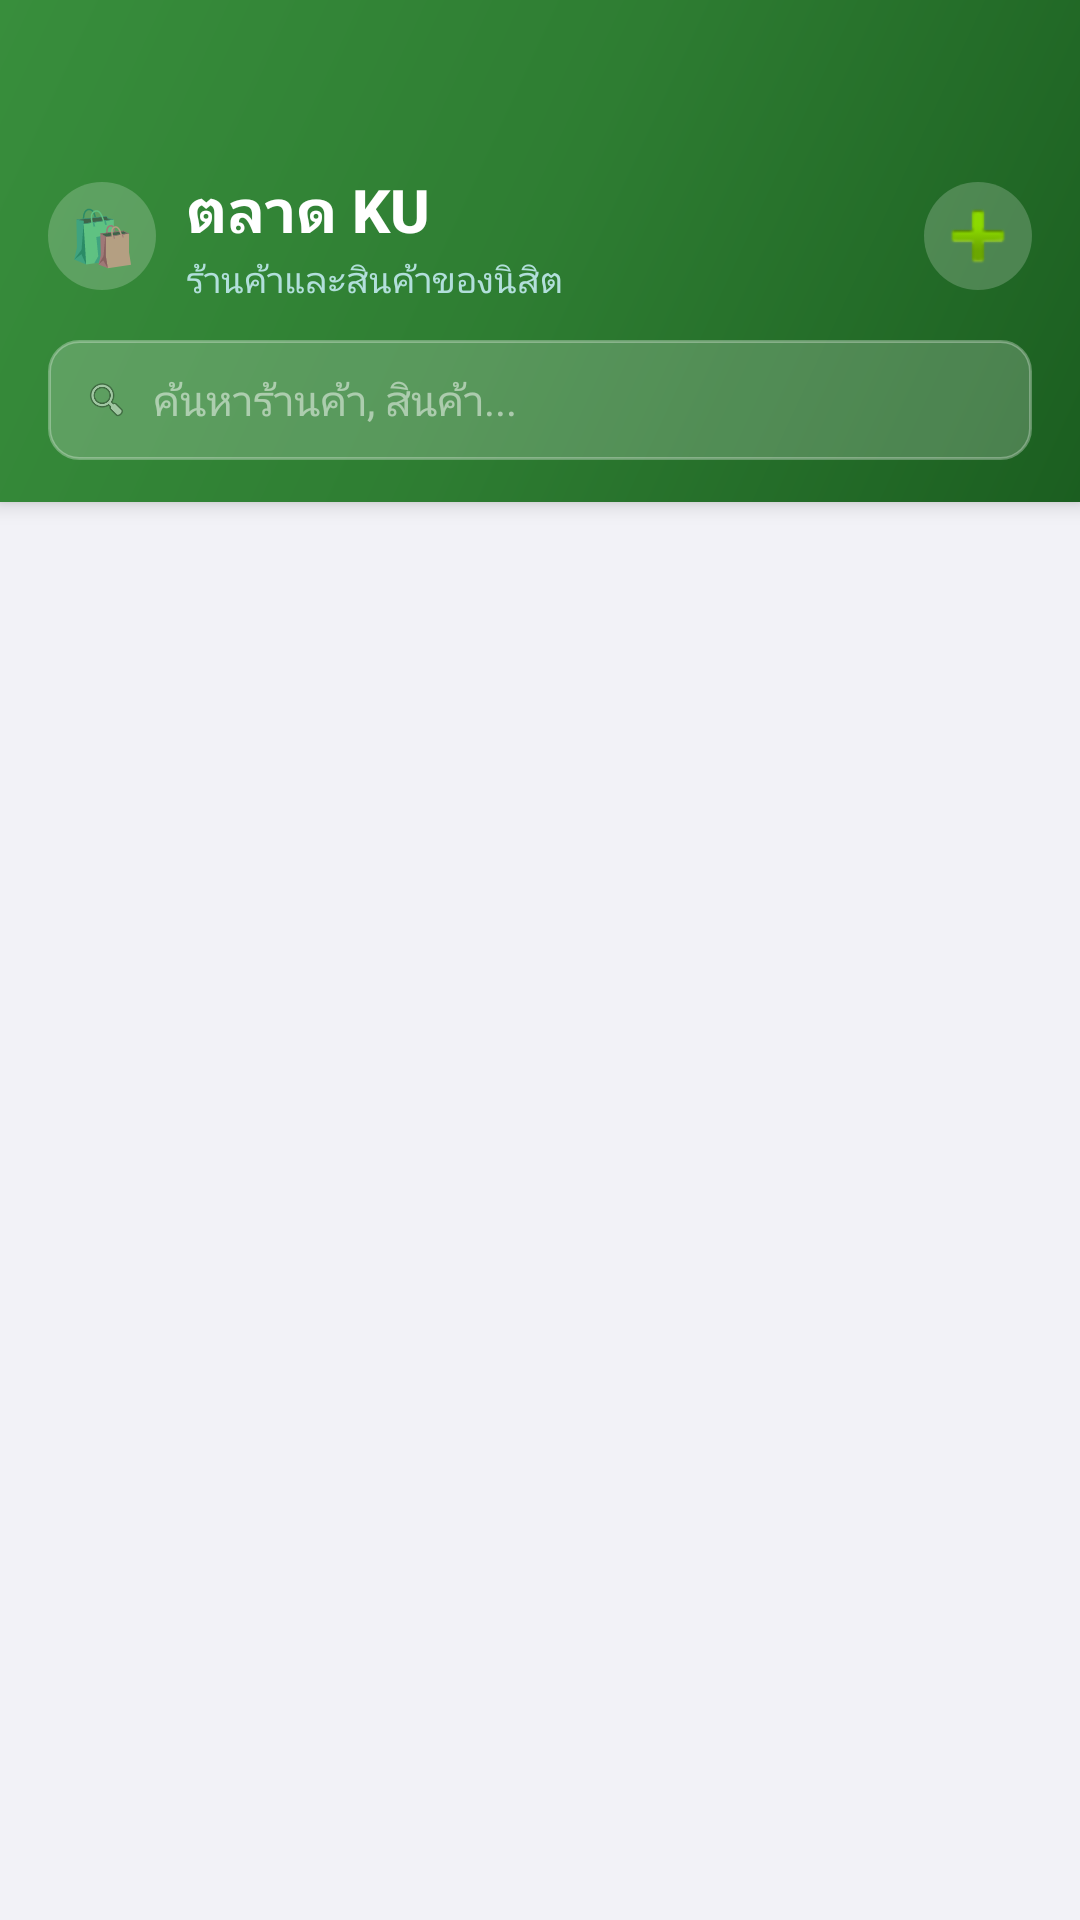

Where icons sit on this 1080 × 1920 app screen, as [left=x1, top=y1, right=x2, bottom=y2]:
Add shop: [left=924, top=182, right=1032, bottom=290]
Search: [left=90, top=383, right=123, bottom=416]
